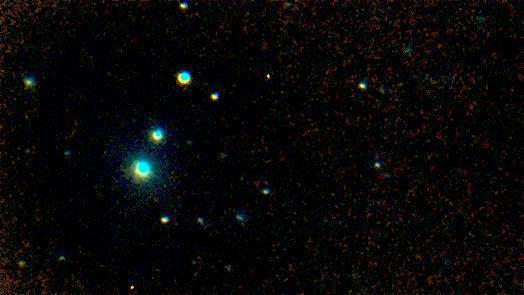star: (11, 135, 41, 165)
